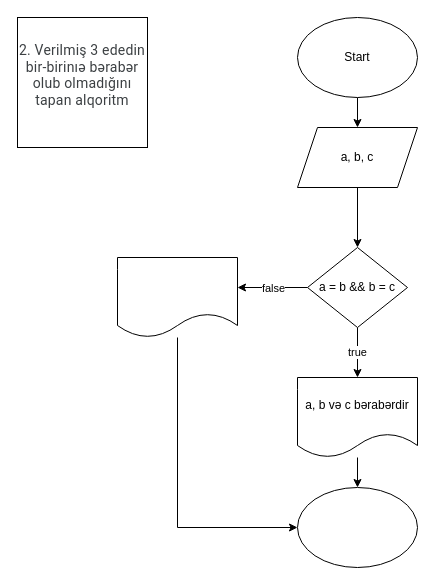
The diagram is 435 pixels wide and 585 high, and some of its shapes have lost their labels. The shapes that lost their labels are listed below. From the top down, each one's centre as x and y in pixels, then its label:
At point 177,297: "a, b və c bərabər deyil".
At point 357,527: "End".
